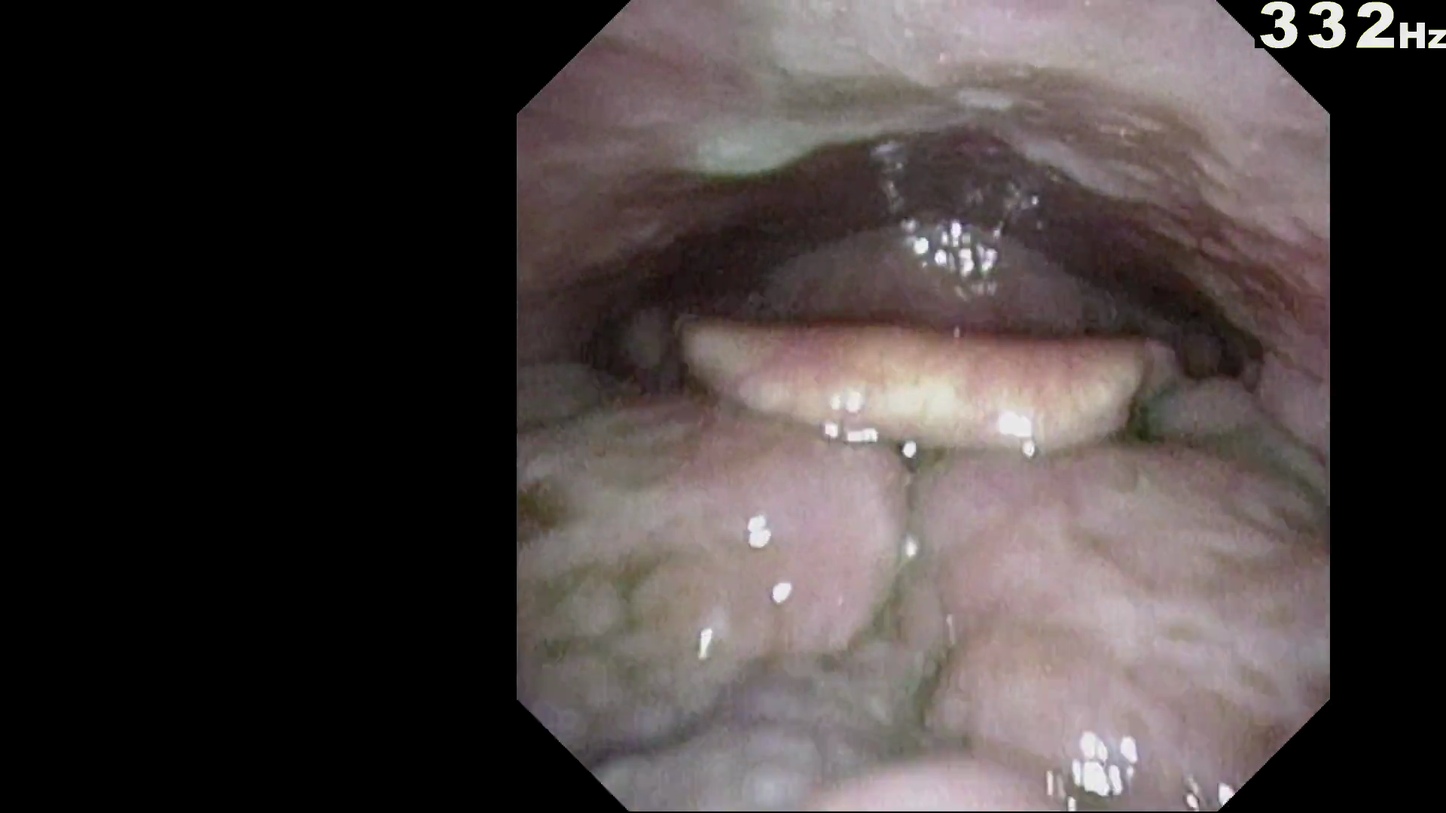epiglottis: (614, 303, 1227, 463)
